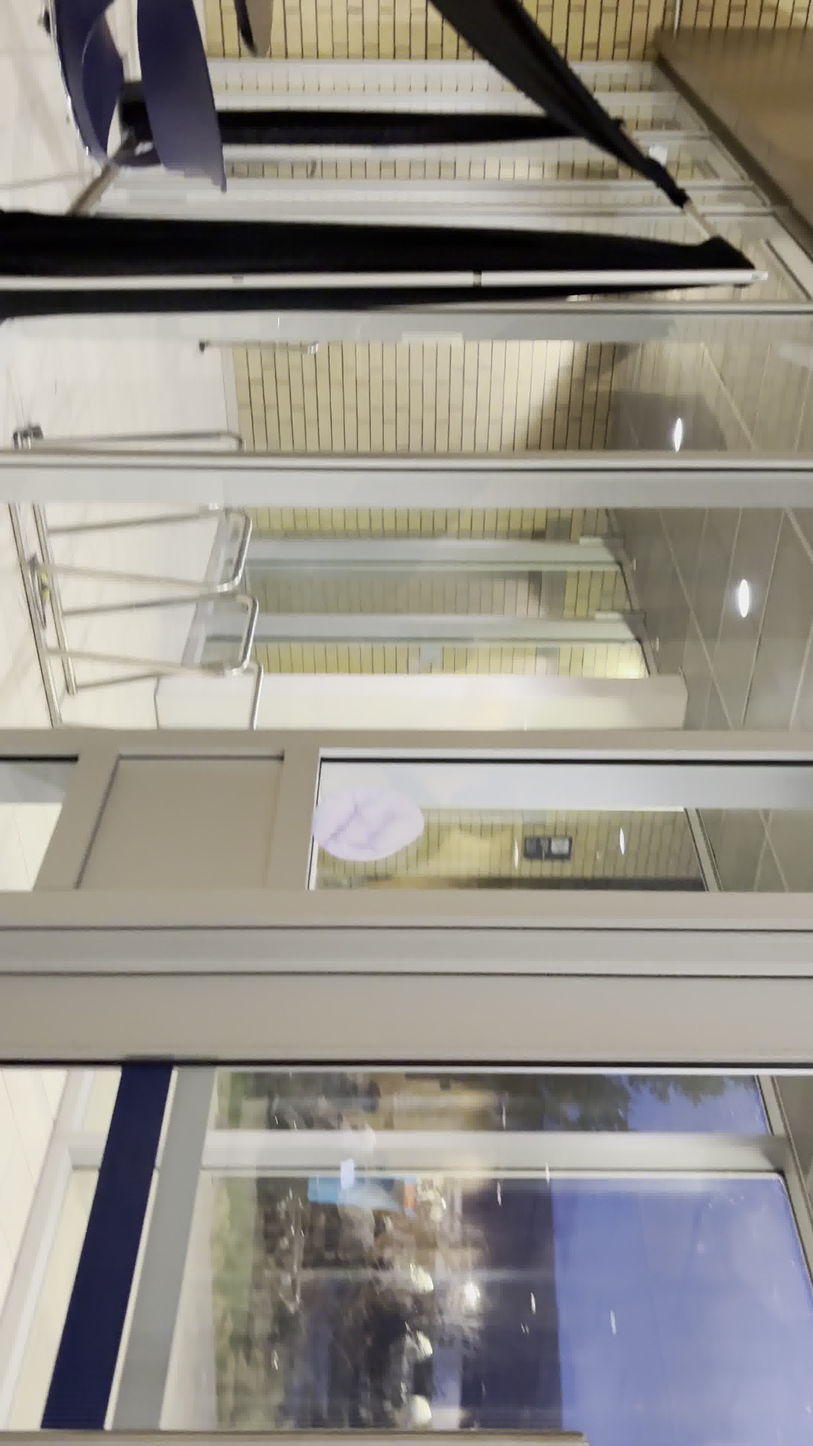Target: (310, 783, 426, 865)
